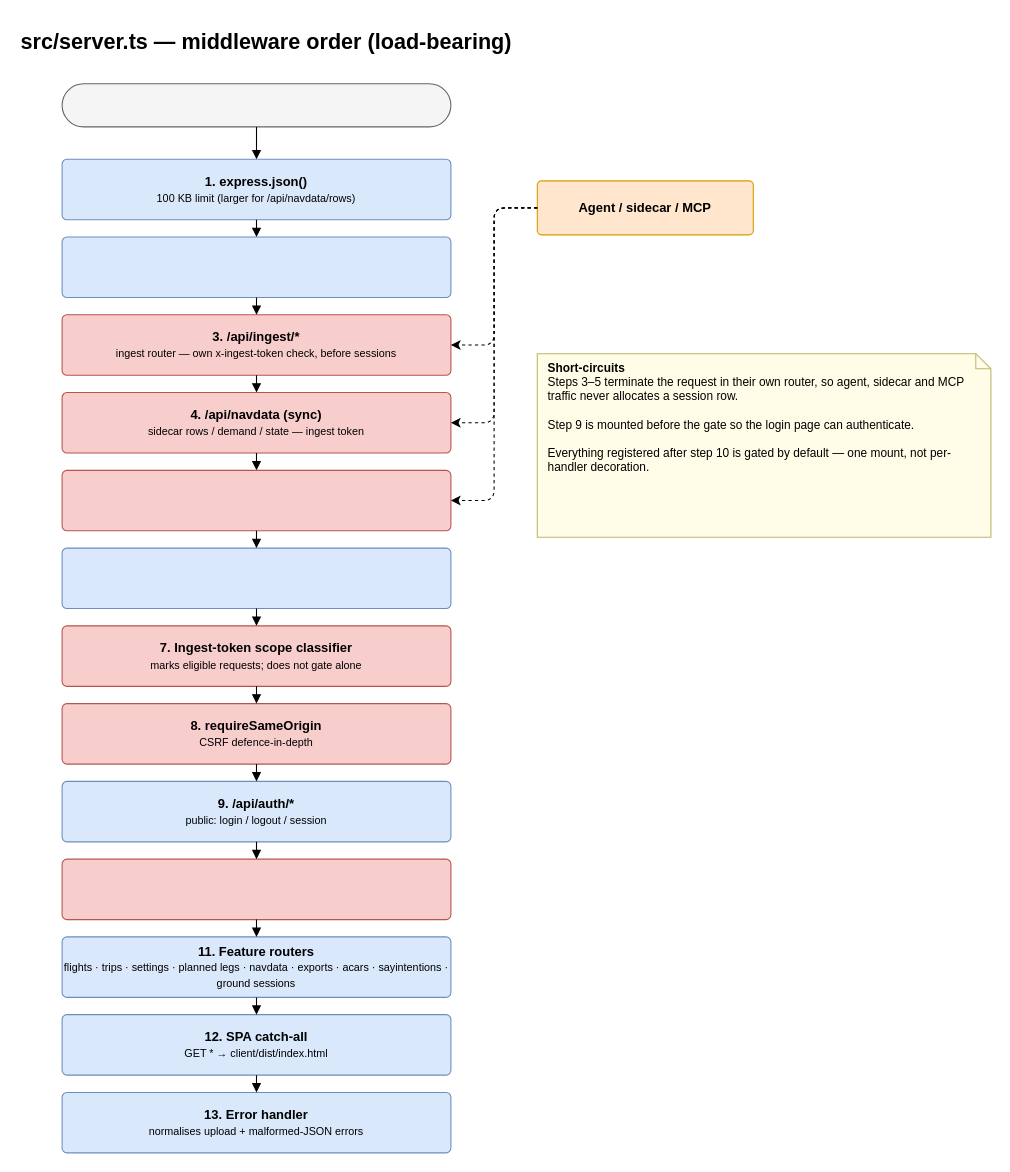
The diagram is 1010 pixels wide and 1172 high, and some of its shapes have lost their labels. Here are the shapes that lost their labels. From the top down, the centre of each, then its label:
At (x=256, y=105): "Incoming request".
At (x=256, y=267): "2. express.static(client/dist) built React SPA".
At (x=256, y=500): "5. /mcp only if MCP_TOKEN set — own bearer token, outside /api".
At (x=256, y=578): "6. express-session cookie msfslogger.sid · SQLite-backed store (auth_session)".
At (x=256, y=889): "10. requireAuth on /api valid session OR validly-scoped ingest token".
